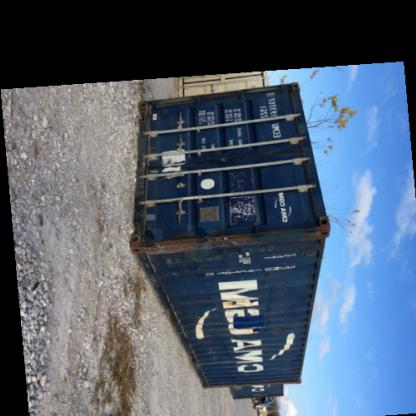Damage: (148, 231, 264, 274), (258, 292, 282, 338), (224, 194, 260, 224), (212, 341, 240, 376), (312, 221, 332, 244), (223, 298, 247, 308)
